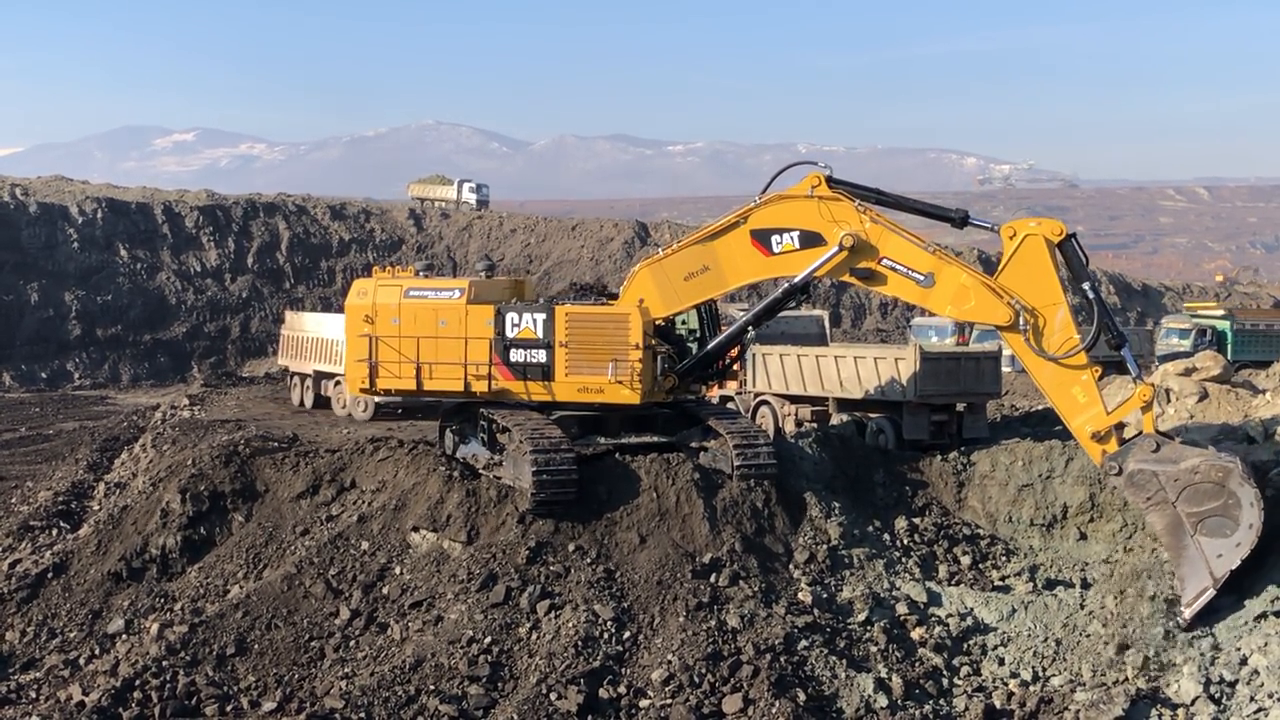empty: (1073, 411, 1268, 630)
